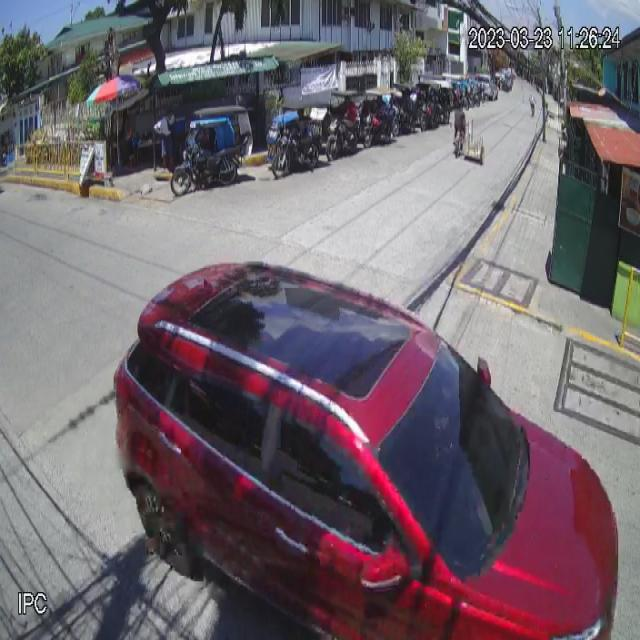Car: (110, 256, 622, 640)
Tricycle: (170, 102, 254, 196)
